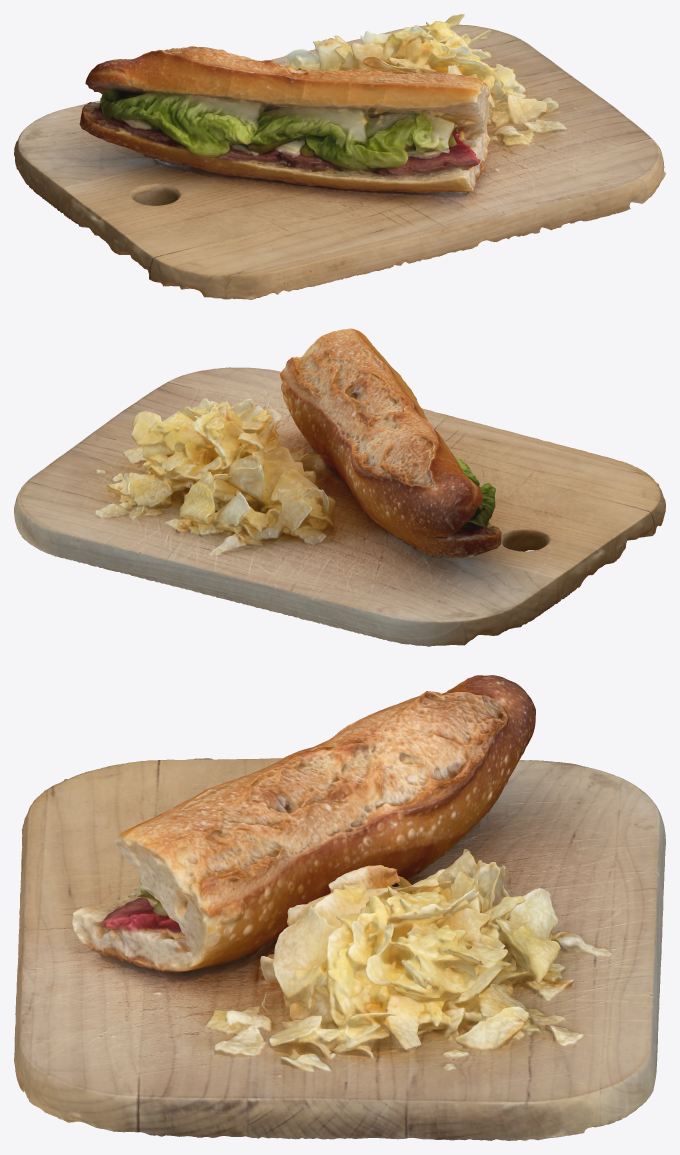
The model's file is sandwich.glb.
3 renders of one model, top to bottom at view 1: azimuth 30°, elevation 25°; view 2: azimuth 150°, elevation 25°; view 3: azimuth 270°, elevation 25°, orthographic. The views are drawn at different scales.
Parts seen in each view (by area): view 1: model; view 2: model; view 3: model.
Part boxes in pixels (x1,y1,x2,y2): model: (14,14,665,299); model: (14,328,665,646); model: (14,675,665,1140).
Size of the model in its own units: 0.4175 by 0.1036 by 0.3222.
1 material, 1 textured.
